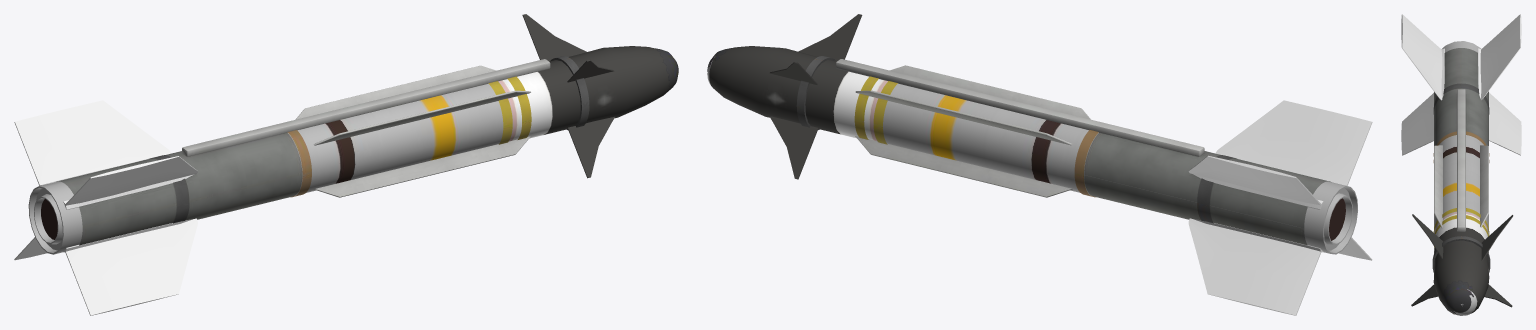
The model's file is srm_3.glb.
3 renders of one model, left to right at view 1: azimuth 30°, elevation 25°; view 2: azimuth 150°, elevation 25°; view 3: azimuth 270°, elevation 25°, orthographic. The views are drawn at different scales.
Parts seen in each view (by area): view 1: srm_3; view 2: srm_3; view 3: srm_3.
Boxes of the visible parts, <box> form: srm_3: <box>14,14,678,315</box>; srm_3: <box>707,14,1372,315</box>; srm_3: <box>1401,14,1521,315</box>.
Bounding box in the file's own units: 1 × 0.2134 × 0.2134.
Materials: 7 (7 with a texture image).
